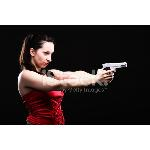Pistol: (102, 61, 126, 75)
